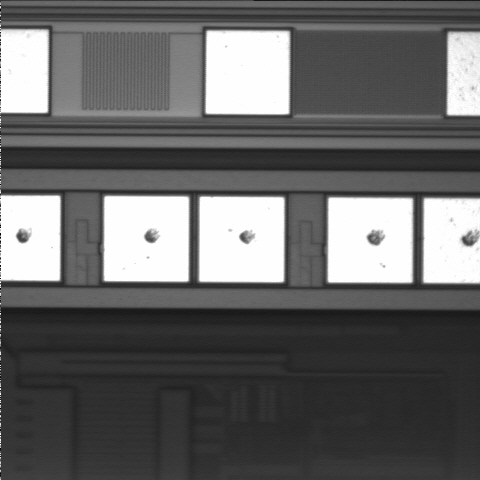pad: (104, 196, 189, 282), (199, 197, 284, 282), (328, 198, 413, 283), (206, 31, 289, 114)
